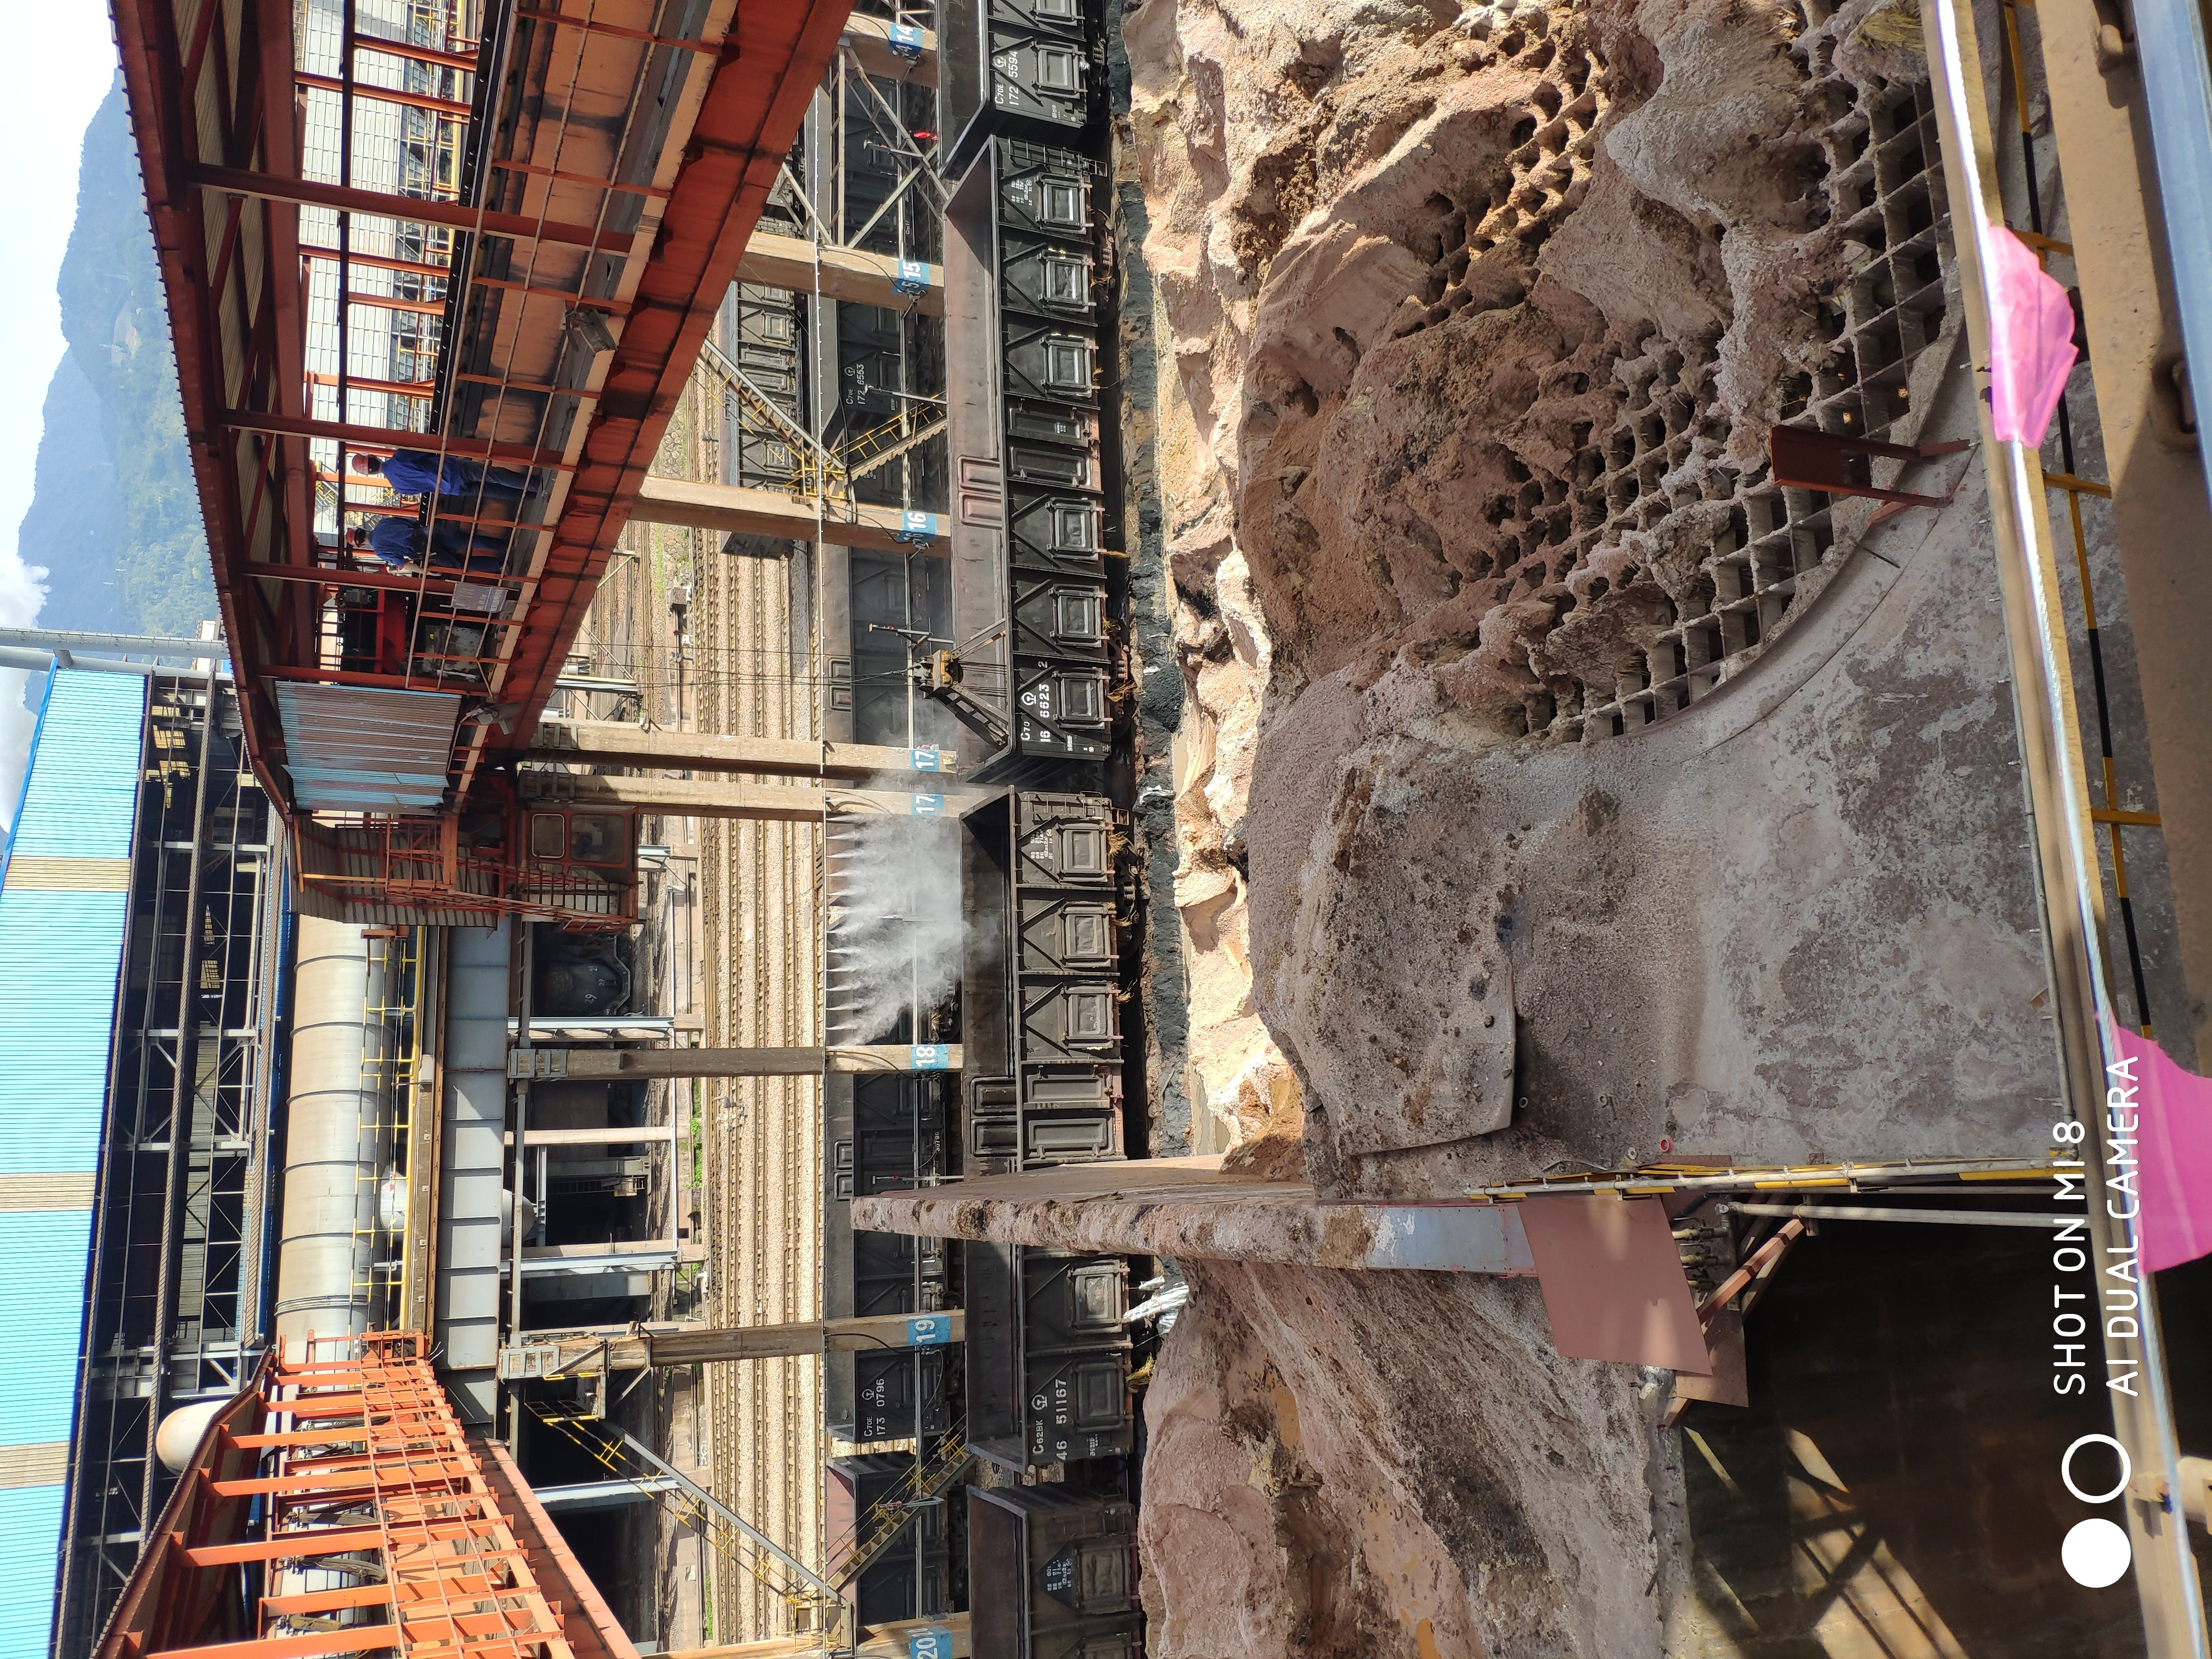dust: (848, 694, 984, 1051)
